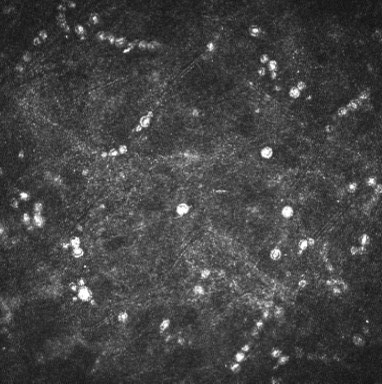anomalie: (121, 37, 141, 57), (76, 284, 94, 304), (30, 211, 48, 229), (145, 40, 164, 56), (350, 332, 367, 349), (157, 316, 172, 335), (74, 23, 89, 42), (346, 98, 363, 114), (175, 202, 193, 217), (258, 144, 273, 161), (274, 353, 291, 368), (247, 325, 262, 342), (19, 210, 34, 227), (227, 358, 241, 376), (268, 247, 283, 263), (267, 345, 283, 360), (247, 24, 263, 39), (137, 115, 153, 130), (271, 305, 285, 322), (94, 29, 111, 43), (279, 205, 294, 220), (356, 232, 371, 247), (231, 350, 247, 364), (287, 85, 301, 101), (29, 200, 45, 214), (335, 105, 349, 120), (114, 35, 128, 50), (88, 11, 102, 26), (116, 309, 129, 325), (69, 246, 85, 259), (16, 189, 32, 202), (191, 284, 205, 298), (204, 40, 218, 54), (68, 235, 82, 249), (343, 181, 358, 194), (258, 309, 273, 322), (265, 59, 280, 72), (253, 318, 267, 331), (198, 268, 212, 281), (106, 33, 119, 47), (21, 50, 34, 64), (9, 196, 21, 211), (138, 38, 149, 54), (364, 175, 377, 188), (330, 284, 343, 297), (37, 28, 50, 41), (107, 147, 121, 159), (257, 52, 270, 64), (295, 80, 307, 92), (117, 144, 129, 156), (31, 36, 43, 48), (14, 62, 26, 74), (297, 238, 308, 251), (256, 65, 267, 78), (59, 239, 70, 252), (371, 183, 382, 195), (305, 236, 316, 248), (55, 3, 66, 15), (68, 281, 78, 294), (54, 13, 67, 23), (356, 245, 367, 256), (296, 279, 307, 290), (239, 343, 251, 353), (269, 70, 279, 82), (57, 19, 67, 31), (348, 244, 357, 257), (25, 223, 35, 233), (62, 26, 72, 36), (66, 0, 77, 9), (77, 277, 86, 287), (99, 149, 108, 159), (134, 124, 143, 133), (146, 110, 156, 118), (70, 296, 77, 304), (89, 300, 96, 306)
